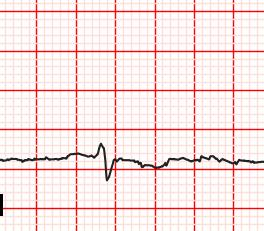Poor R Progression: (91, 140, 110, 161)
ST Depression: (92, 152, 121, 184)
